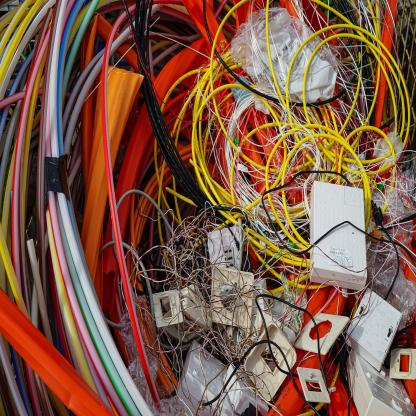wires: (1, 1, 416, 416)
